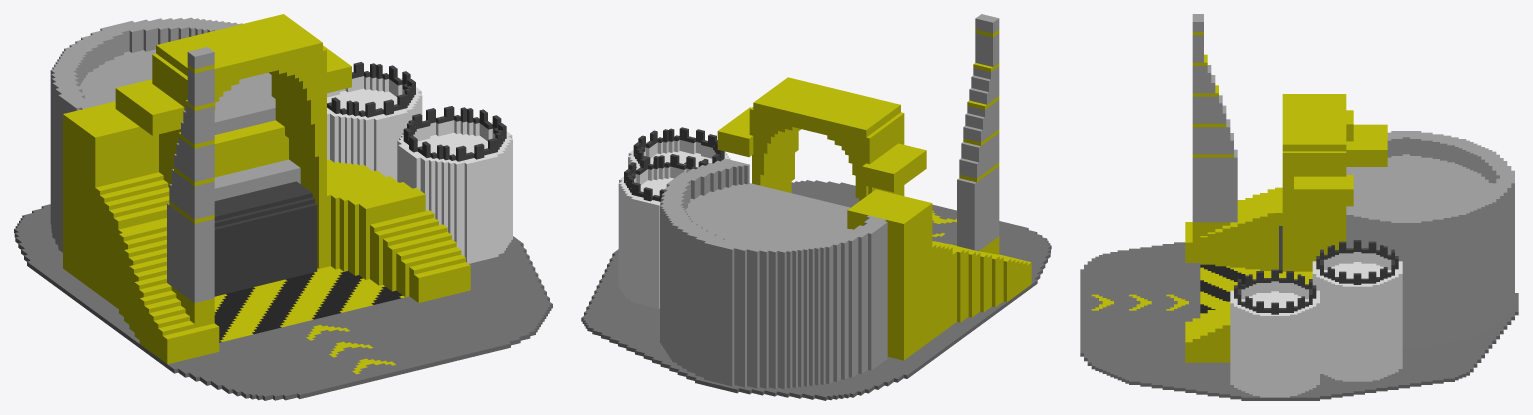
File: GDIRefinery.obj
3 renders of one model, left to right at view 1: azimuth 30°, elevation 25°; view 2: azimuth 150°, elevation 25°; view 3: azimuth 270°, elevation 25°, orthographic. The views are drawn at different scales.
Size of the model in its own units: 9.8 by 7.2 by 11.7.
Materials: 1 (1 with a texture image).
